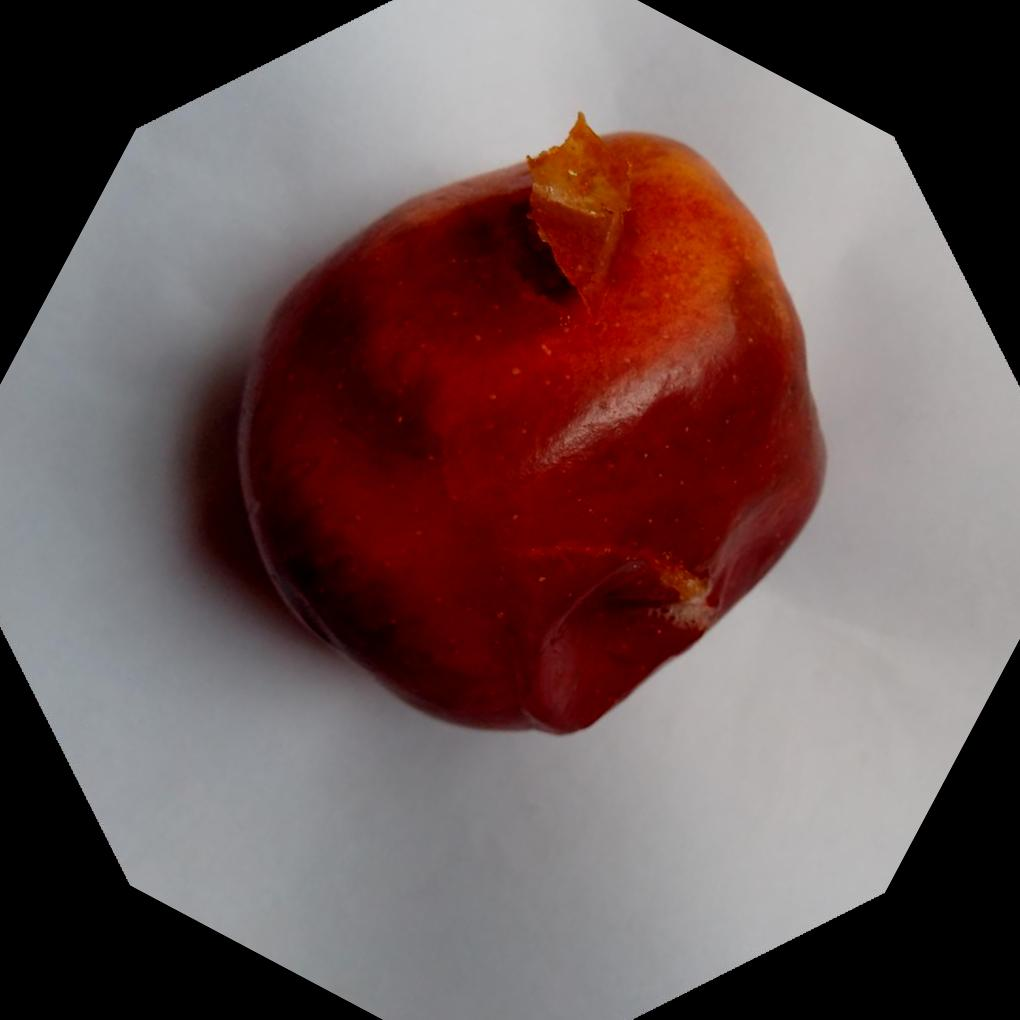FreshOrange: (231, 114, 825, 740)
